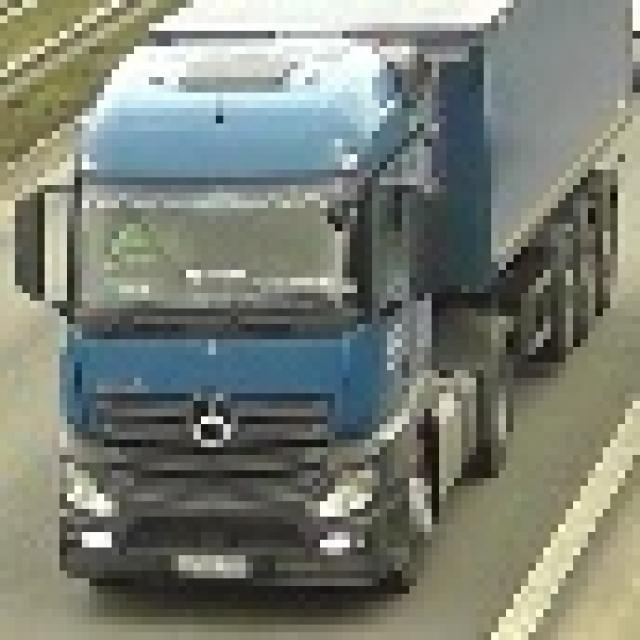TRUCK: (41, 8, 634, 607)
